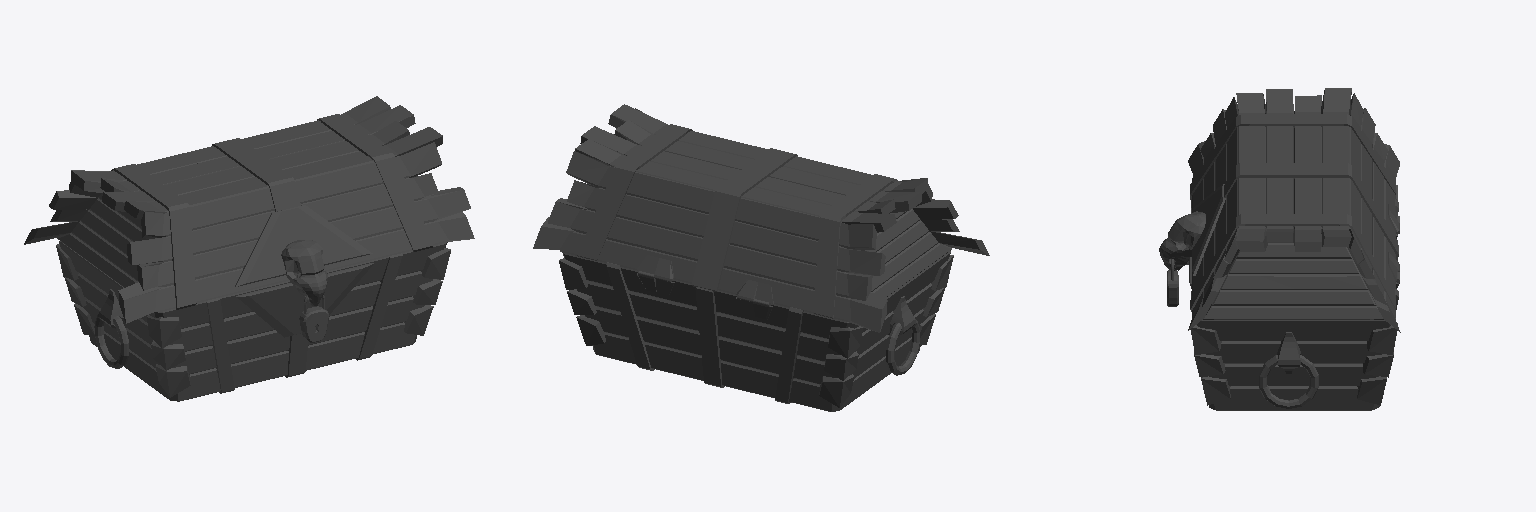
The model's file is FinalExport.obj.
The picture shows the model from 3 angles: view 1: azimuth 30°, elevation 25°; view 2: azimuth 150°, elevation 25°; view 3: azimuth 270°, elevation 25°; orthographic projection.
Visible parts, largest first — view 1: Chest; view 2: Chest; view 3: Chest.
Part boxes in pixels (x1,y1,x2,y2): Chest: (24,96,474,401); Chest: (533,104,989,411); Chest: (1159,88,1400,410).
Bounding box in the file's own units: 144 × 74.37 × 85.03.